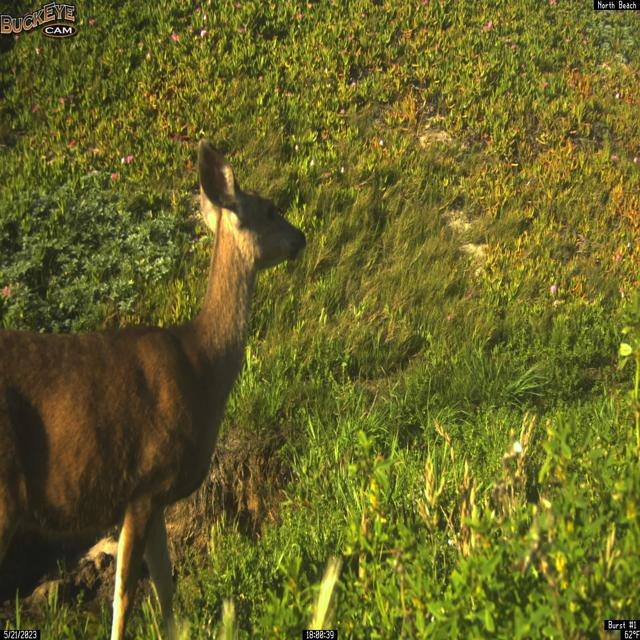deer: (0, 137, 307, 640)
